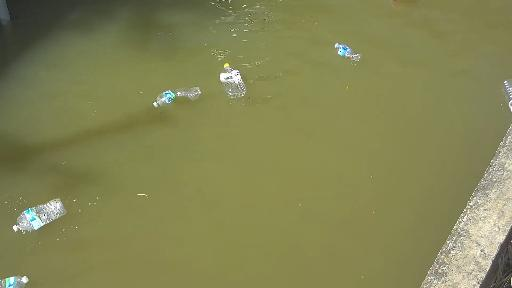plastic: (8, 173, 99, 240), (152, 74, 213, 120), (219, 50, 267, 106), (318, 28, 372, 68), (0, 254, 41, 288), (483, 72, 512, 111)
